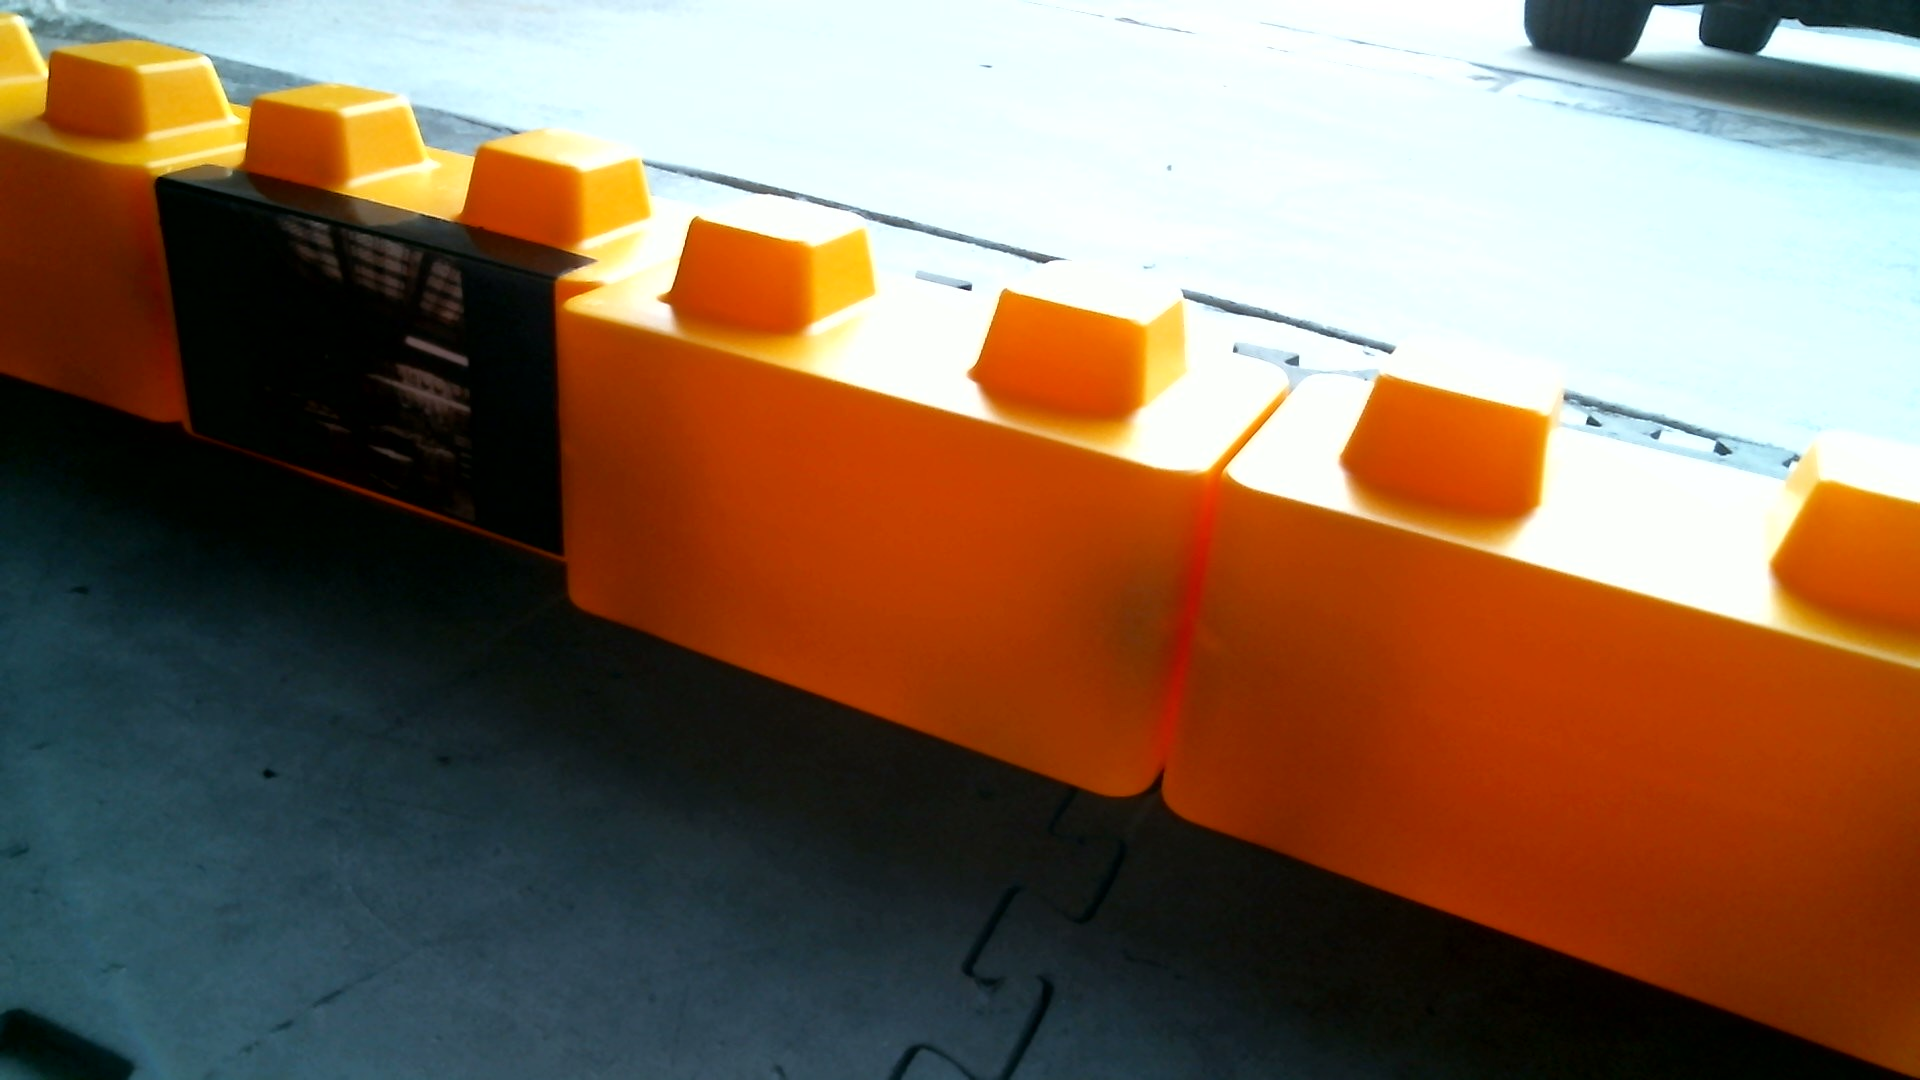left: (152, 71, 1919, 1056)
